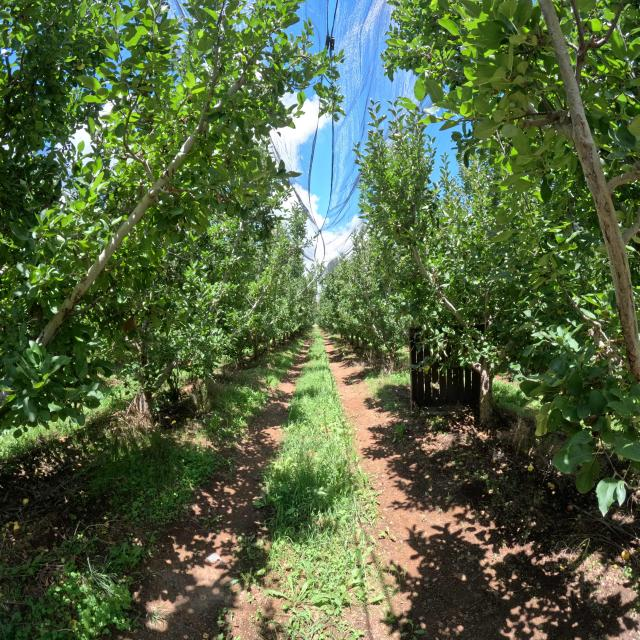-FireBlight-: (215, 195, 229, 203)
